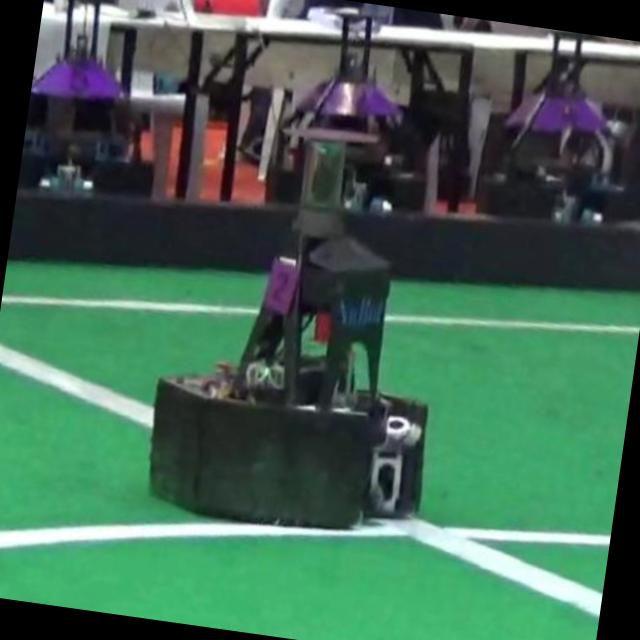robot: (150, 131, 428, 530)
